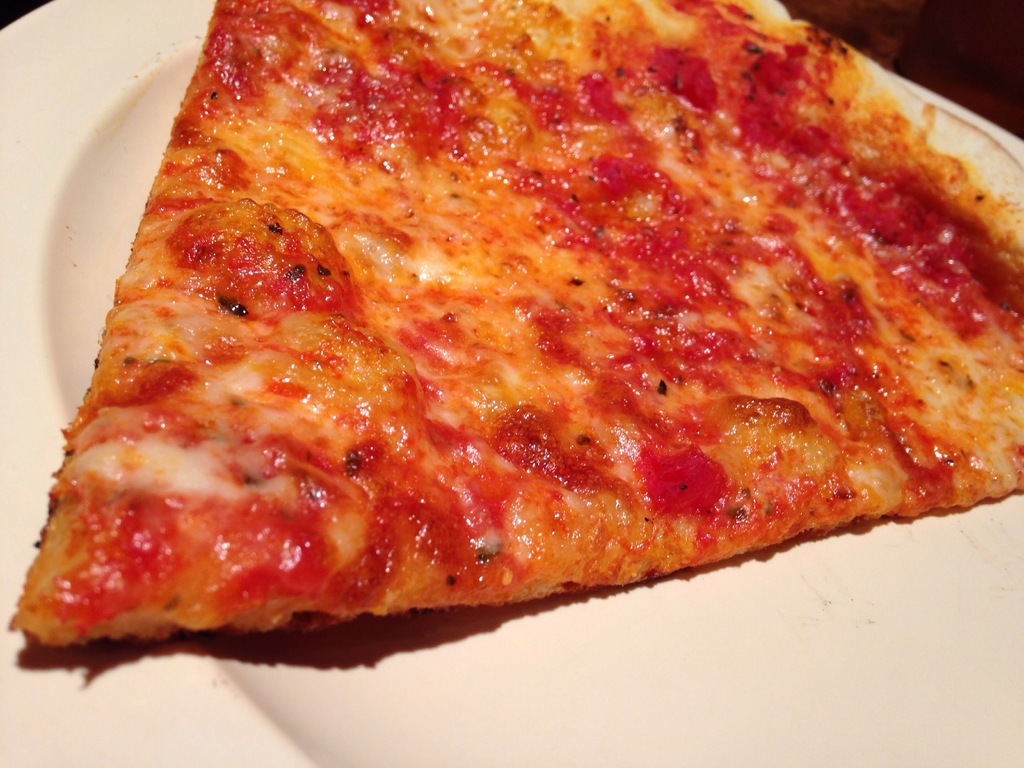Pizza: (5, 0, 1023, 638)
